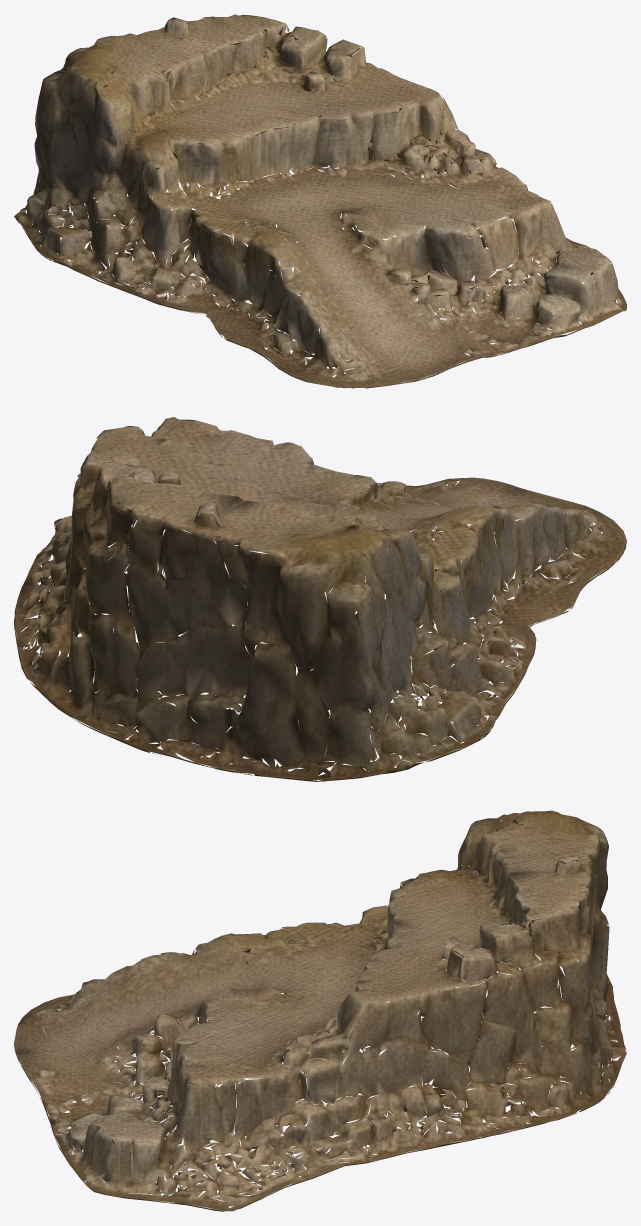
File: quarry_mid.glb
The picture shows the model from 3 angles, top to bottom: view 1: azimuth 30°, elevation 25°; view 2: azimuth 150°, elevation 25°; view 3: azimuth 270°, elevation 25°; orthographic projection. The views are drawn at different scales.
Parts seen in each view (by area): view 1: model; view 2: model; view 3: model.
Part boxes in pixels (bbox=[...]): model: bbox=[14, 14, 626, 388]; model: bbox=[14, 417, 626, 781]; model: bbox=[14, 810, 626, 1211].
Size of the model in its own units: 0.9248 by 0.3785 by 1.
Materials: 1 (1 with a texture image).
